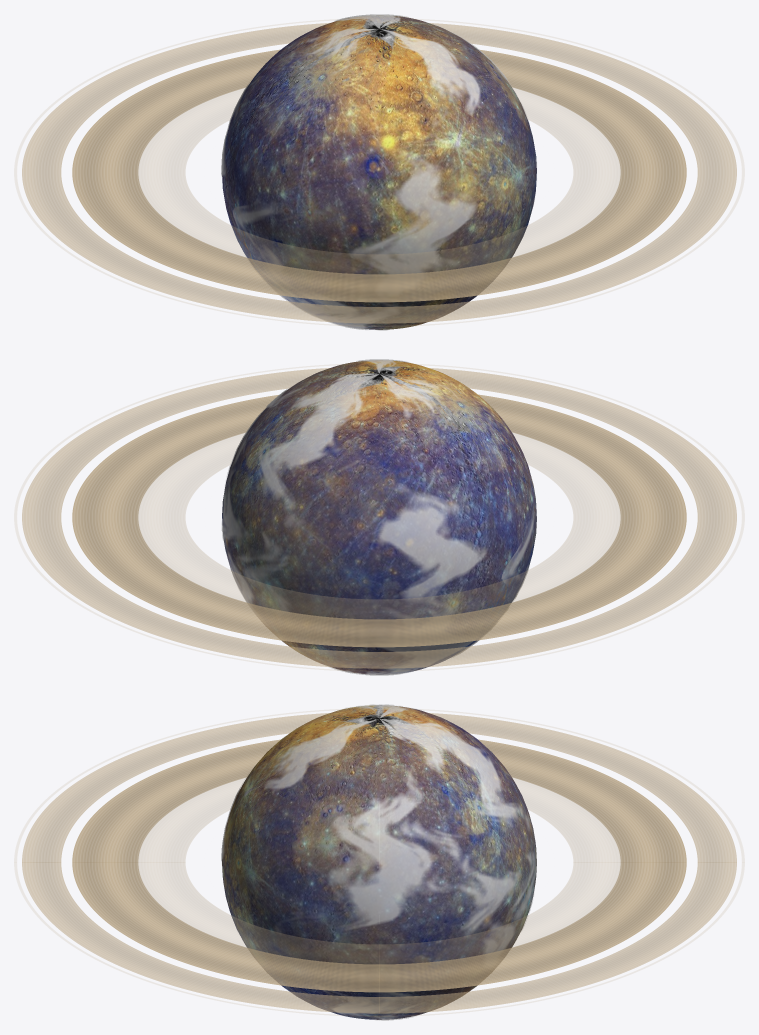
Rendered from mundos.glb.
3 views of the same model, one above another, from view 1: azimuth 30°, elevation 25°; view 2: azimuth 150°, elevation 25°; view 3: azimuth 270°, elevation 25° (orthographic).
Visible parts, largest first — view 1: saturno_aneis, mercurio, terra_nuvens; view 2: saturno_aneis, mercurio, terra_nuvens; view 3: saturno_aneis, mercurio, terra_nuvens.
Boxes of the visible parts, x1=… form: saturno_aneis: x1=14, y1=19, x2=744, y2=326; mercurio: x1=222, y1=15, x2=536, y2=329; terra_nuvens: x1=221, y1=14, x2=534, y2=330; saturno_aneis: x1=14, y1=364, x2=744, y2=671; mercurio: x1=222, y1=360, x2=536, y2=674; terra_nuvens: x1=221, y1=359, x2=534, y2=675; saturno_aneis: x1=14, y1=709, x2=744, y2=1016; mercurio: x1=222, y1=705, x2=536, y2=1019; terra_nuvens: x1=221, y1=704, x2=536, y2=1020.
Size of the model in its own units: 4.64 by 2.01 by 4.64.
11 materials, 11 textured.
